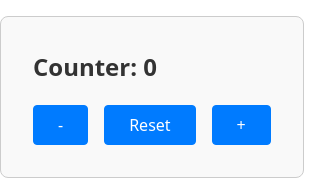
Counter › resets count to 0 when reset button is clicked
Click the button named "increment".
click(241, 125)  # box [212,105,271,145]
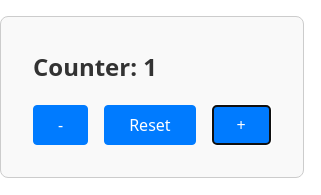
Click the button named "increment".
click(241, 125)  # box [212,105,271,145]
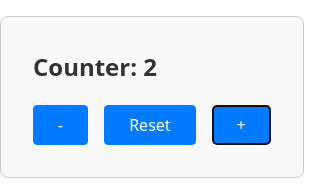
Click the button labelled "Reset".
click(150, 125)  # box [104,105,196,145]
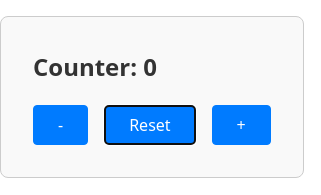
expect the heading "Counter: 0" is shown: met, box [33,50,157,83]
